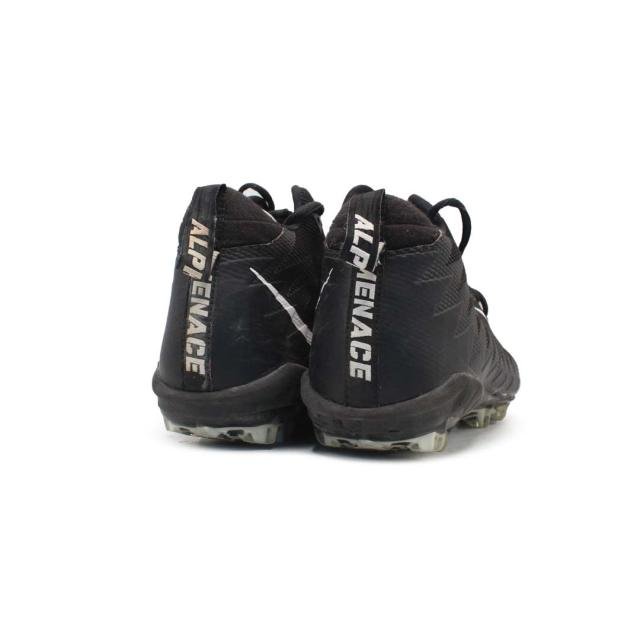heel: (154, 181, 289, 388), (318, 186, 444, 402)
midsole: (303, 373, 517, 455), (153, 365, 303, 456)
